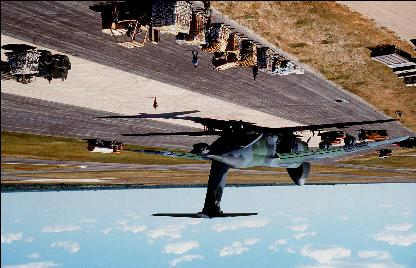C17: (121, 126, 409, 217)
